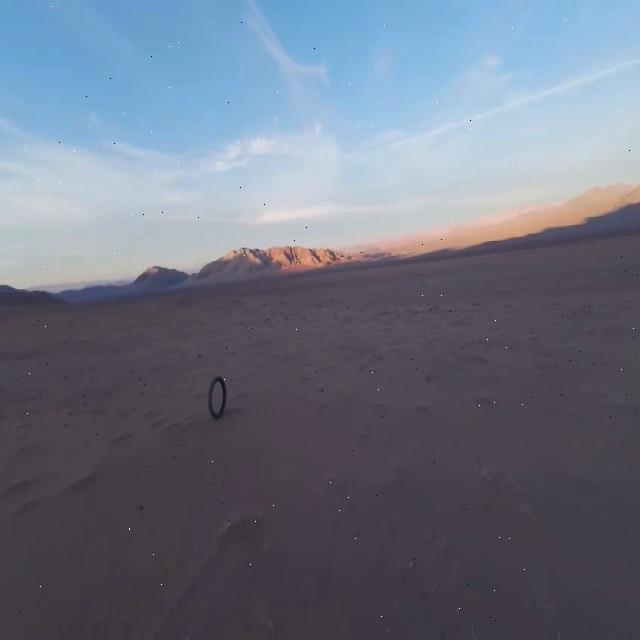Tire: (208, 376, 226, 419)
